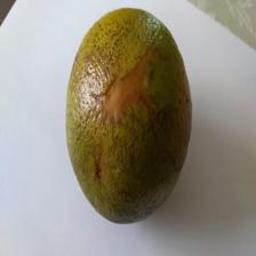Orange Semifresh: (50, 0, 198, 219)
